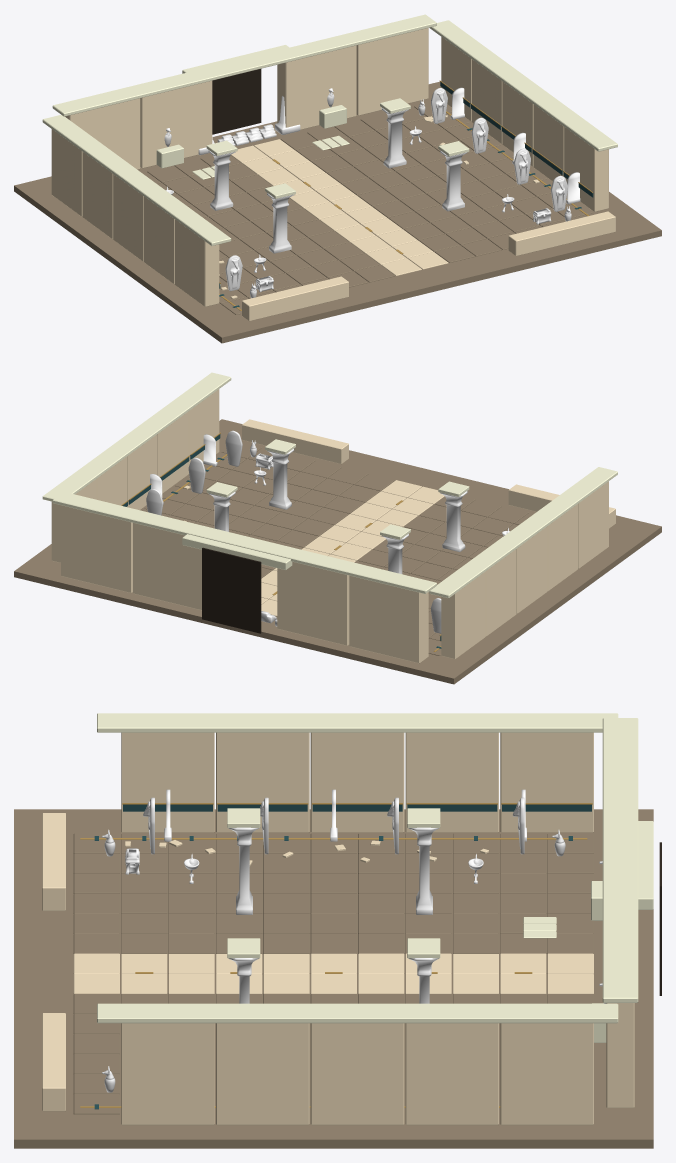
The model's file is mummy_arena_b_painted.glb.
3 views of the same model, one above another, from view 1: azimuth 30°, elevation 25°; view 2: azimuth 150°, elevation 25°; view 3: azimuth 270°, elevation 25° (orthographic). The views are drawn at different scales.
Visible parts, largest first — view 1: MummyTombGeometry; view 2: MummyTombGeometry; view 3: MummyTombGeometry.
Part boxes in pixels (x1,y1,x2,y2): MummyTombGeometry: (14,14,661,343); MummyTombGeometry: (14,372,661,684); MummyTombGeometry: (14,713,661,1148).
Size of the model in its own units: 33 by 5.85 by 27.35.
8 materials, 4 textured.
